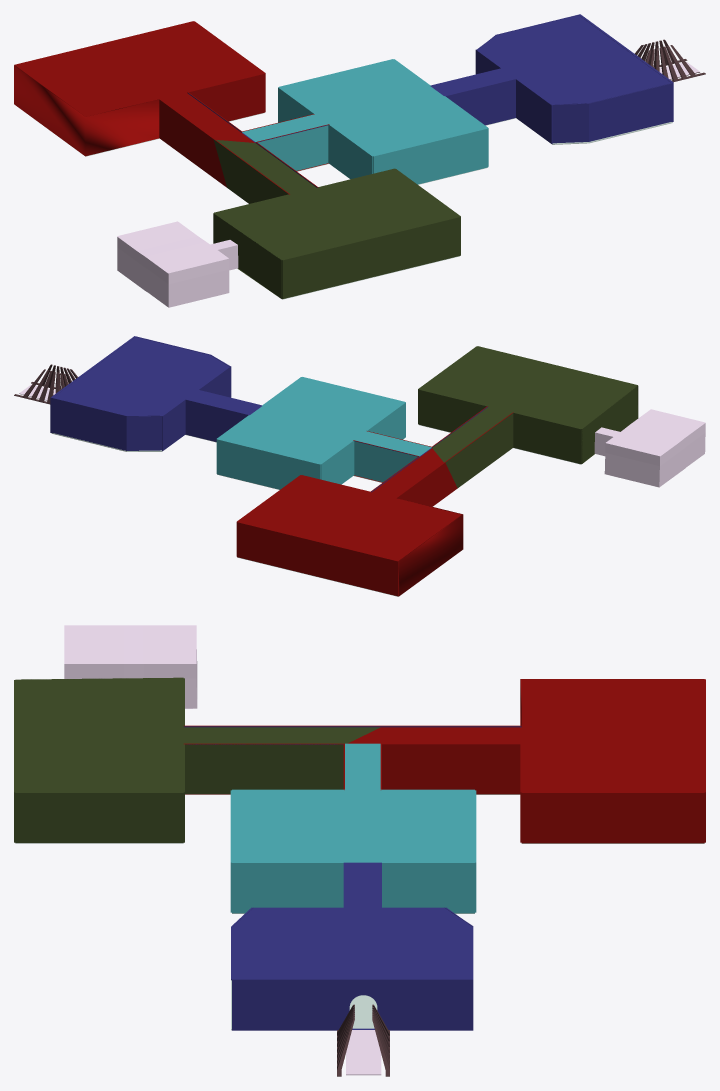
Rendered from curaduria.glb.
3 renders of one model, top to bottom at view 1: azimuth 30°, elevation 25°; view 2: azimuth 150°, elevation 25°; view 3: azimuth 270°, elevation 25°, orthographic. The views are drawn at different scales.
Visible parts, largest first — view 1: Plano.011, Plano.016, Plano.006, Plano.005, Plano.009, Plano.014, Plano.030, Plano.008, Cubo.002, Plano.018, Plano.029, Plano.012 (+9 smaller); view 2: Plano.011, Plano.016, Plano.006, Plano.009, Plano.005, Plano.030, Plano.008, Plano.014, Cubo.002, Plano.017, Plano.012, Plano.021 (+9 smaller); view 3: Plano.011, Plano.016, Plano.006, Plano.005, Cubo.002, Plano.008, Plano.009, Plano.014, Plano.030, Plano.022, Plano.018, Plano.024 (+6 smaller).
Boxes of the visible parts, <box> form: Plano.011: <box>15,21,264,116</box>; Plano.016: <box>215,169,459,259</box>; Plano.006: <box>279,59,487,155</box>; Plano.005: <box>477,15,672,105</box>; Plano.009: <box>14,21,265,156</box>; Plano.014: <box>213,168,460,298</box>; Plano.030: <box>117,221,238,307</box>; Plano.008: <box>278,59,488,184</box>; Cubo.002: <box>477,14,673,143</box>; Plano.018: <box>159,99,226,187</box>; Plano.029: <box>213,213,281,298</box>; Plano.012: <box>431,68,515,125</box>; Plano.011: <box>237,475,461,560</box>; Plano.016: <box>419,346,636,428</box>; Plano.006: <box>218,377,404,463</box>; Plano.009: <box>236,475,463,596</box>; Plano.005: <box>53,337,229,416</box>; Plano.030: <box>594,409,705,487</box>; Plano.008: <box>216,377,405,489</box>; Plano.014: <box>418,346,638,463</box>; Cubo.002: <box>50,336,229,450</box>; Plano.017: <box>445,413,513,487</box>; Plano.012: <box>185,390,261,441</box>; Plano.021: <box>354,441,417,482</box>; Plano.011: <box>521,679,704,792</box>; Plano.016: <box>15,678,183,792</box>; Plano.006: <box>232,790,474,862</box>; Plano.005: <box>231,908,472,980</box>; Cubo.002: <box>232,907,473,1030</box>; Plano.008: <box>230,789,476,913</box>; Plano.009: <box>520,679,705,843</box>; Plano.014: <box>14,677,184,842</box>; Plano.030: <box>64,625,197,708</box>; Plano.022: <box>185,744,343,793</box>; Plano.018: <box>382,744,520,794</box>; Plano.024: <box>183,727,380,743</box>.
Bounding box in the file's own units: 16.52 × 0.9803 × 11.89.
